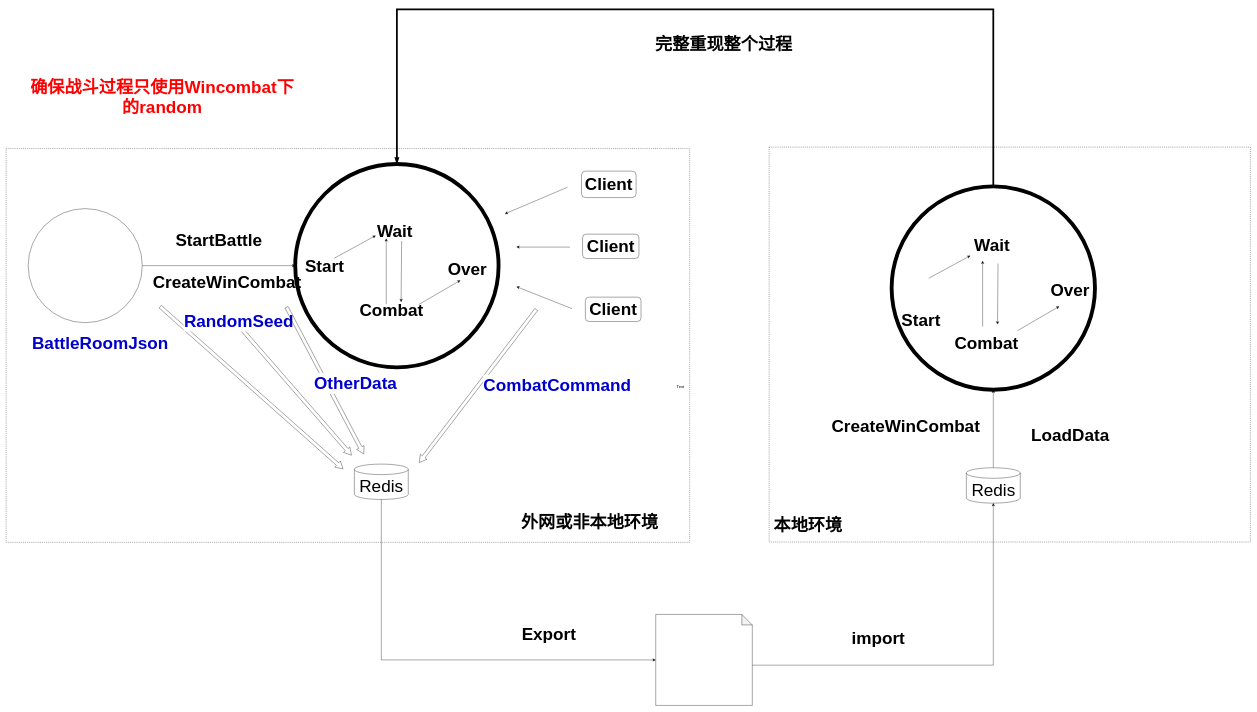
This 1257x712 diagram has some shape labels left out. Each missing label, with the centre of its shape:
"BattleRoom" goes at (x=85, y=265).
"CombatData" goes at (x=703, y=659).
